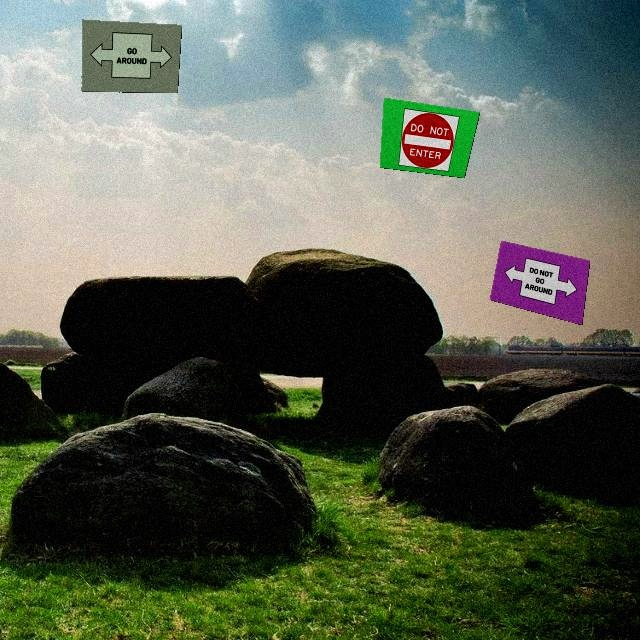DO_NOT_ENTER: (394, 108, 460, 172)
DO_NOT_GO_AROUND: (501, 253, 580, 310)
GO_AROUND: (87, 31, 174, 79)
